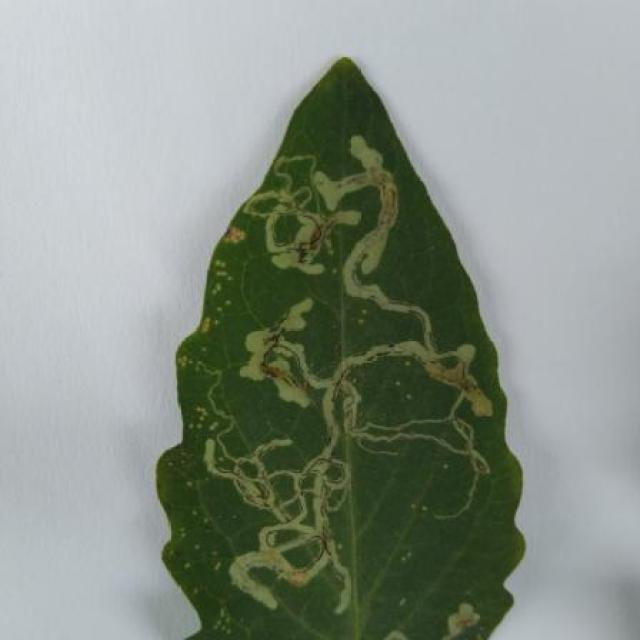Leaf Miner: (150, 53, 530, 634)
